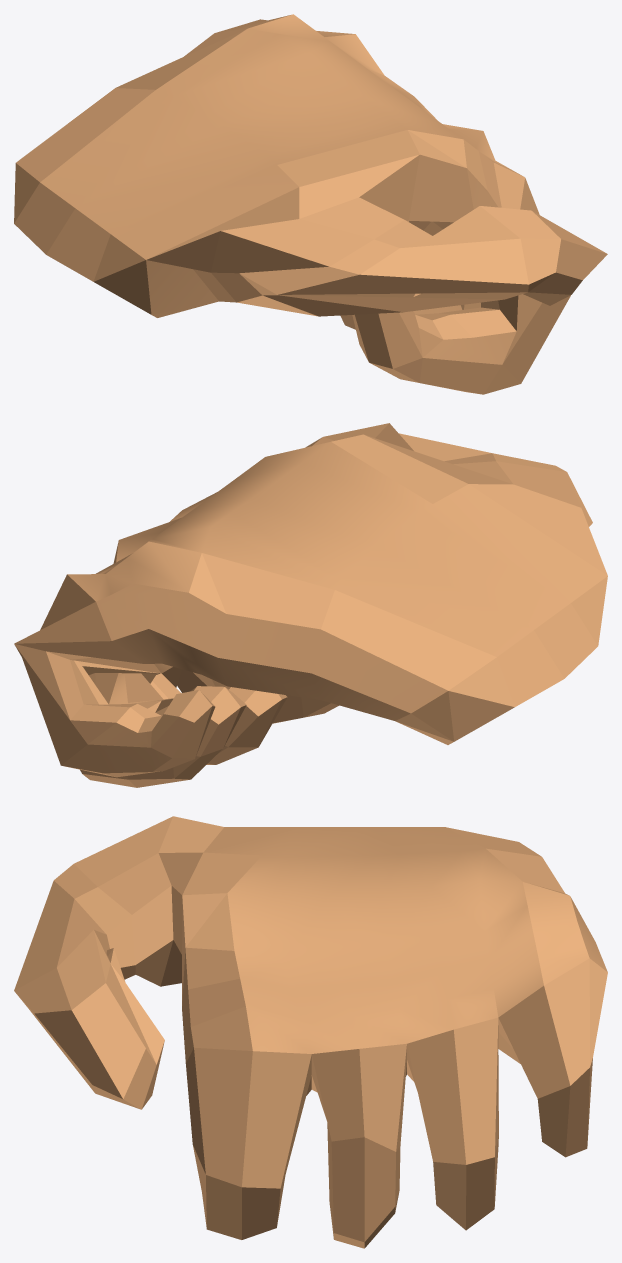
File: left hand close.fbx
The picture shows the model from 3 angles, top to bottom: view 1: azimuth 30°, elevation 25°; view 2: azimuth 150°, elevation 25°; view 3: azimuth 270°, elevation 25°; orthographic projection. The views are drawn at different scales.
Parts seen in each view (by area): view 1: Cube; view 2: Cube; view 3: Cube.
Boxes of the visible parts, bbox=[...] form: Cube: bbox=[14, 14, 607, 394]; Cube: bbox=[14, 423, 607, 787]; Cube: bbox=[14, 816, 607, 1248].
Size of the model in its own units: 301 by 186 by 325.
